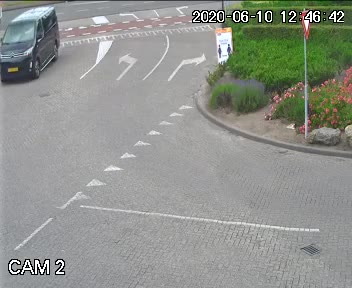car: (2, 1, 68, 96)
